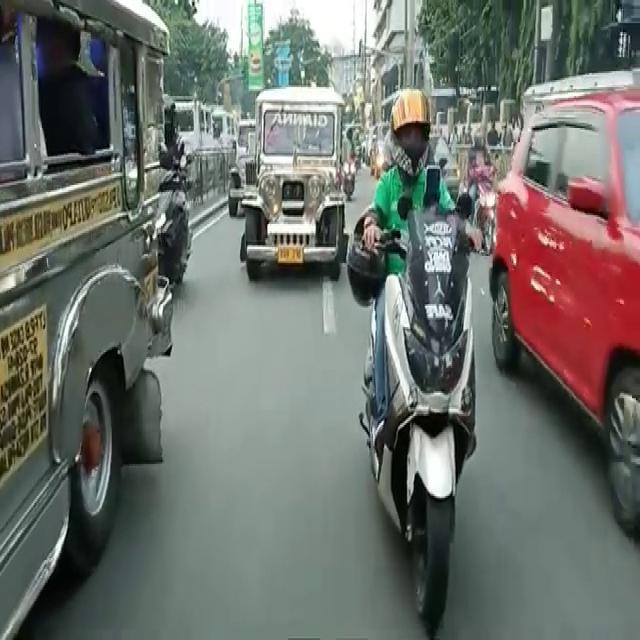car: (497, 94, 640, 502)
jeepney: (0, 18, 163, 629), (242, 87, 346, 287)
motorcycle: (348, 87, 488, 628)
